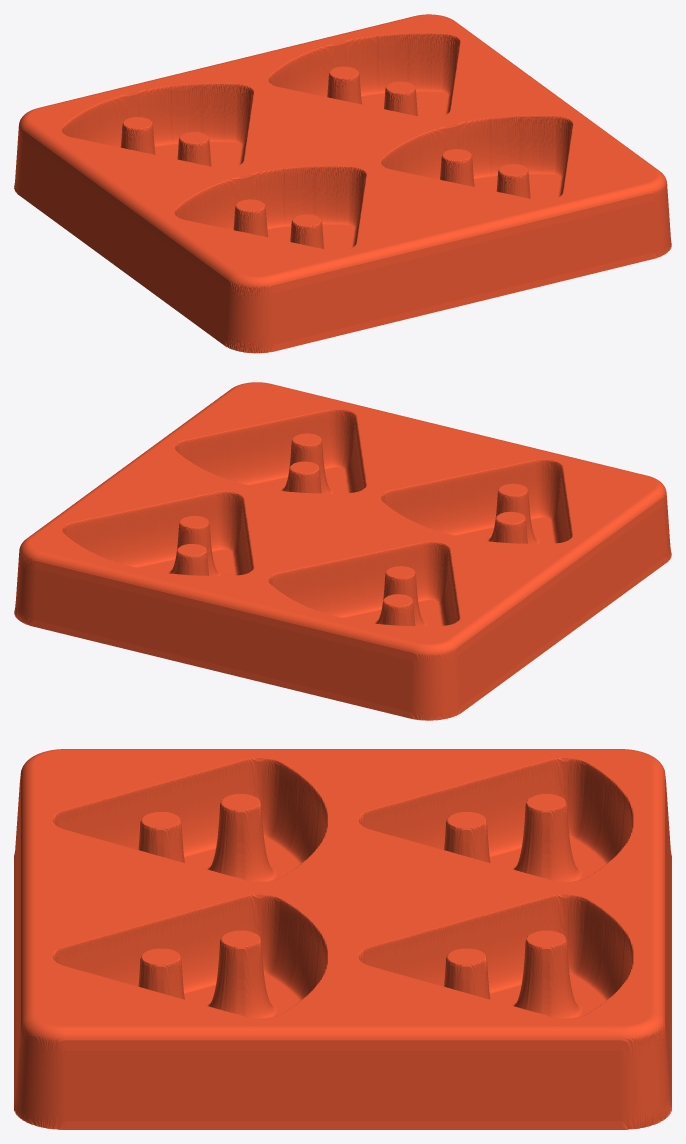
File: mold.glb
3 renders of one model, top to bottom at view 1: azimuth 30°, elevation 25°; view 2: azimuth 150°, elevation 25°; view 3: azimuth 270°, elevation 25°, orthographic. The views are drawn at different scales.
Parts seen in each view (by area): view 1: geometry_0; view 2: geometry_0; view 3: geometry_0.
Boxes of the visible parts, bbox=[...] form: geometry_0: bbox=[14, 14, 671, 353]; geometry_0: bbox=[14, 382, 671, 720]; geometry_0: bbox=[14, 749, 671, 1129].
Size of the model in its own units: 0.1218 by 0.0185 by 0.1157.
